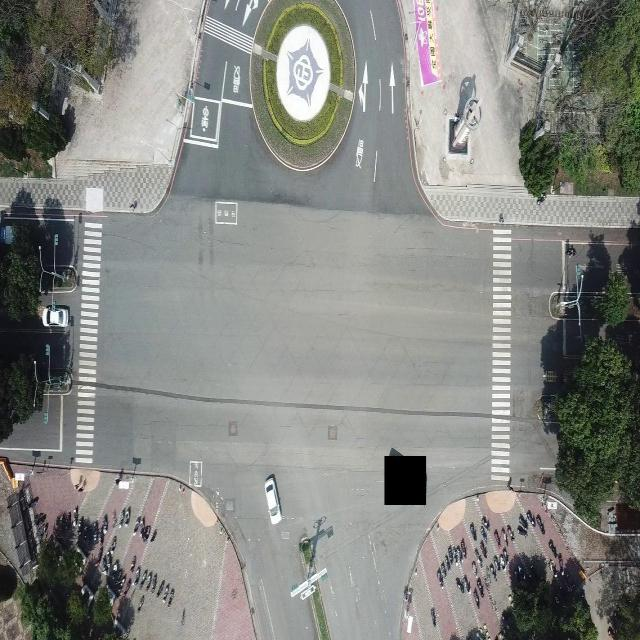car: (264, 473, 281, 524), (36, 305, 72, 329)
